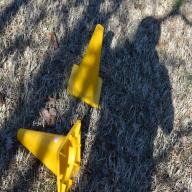cone: (17, 119, 81, 192), (66, 23, 104, 109)
